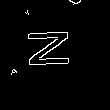N_E: (29, 34, 81, 76)
